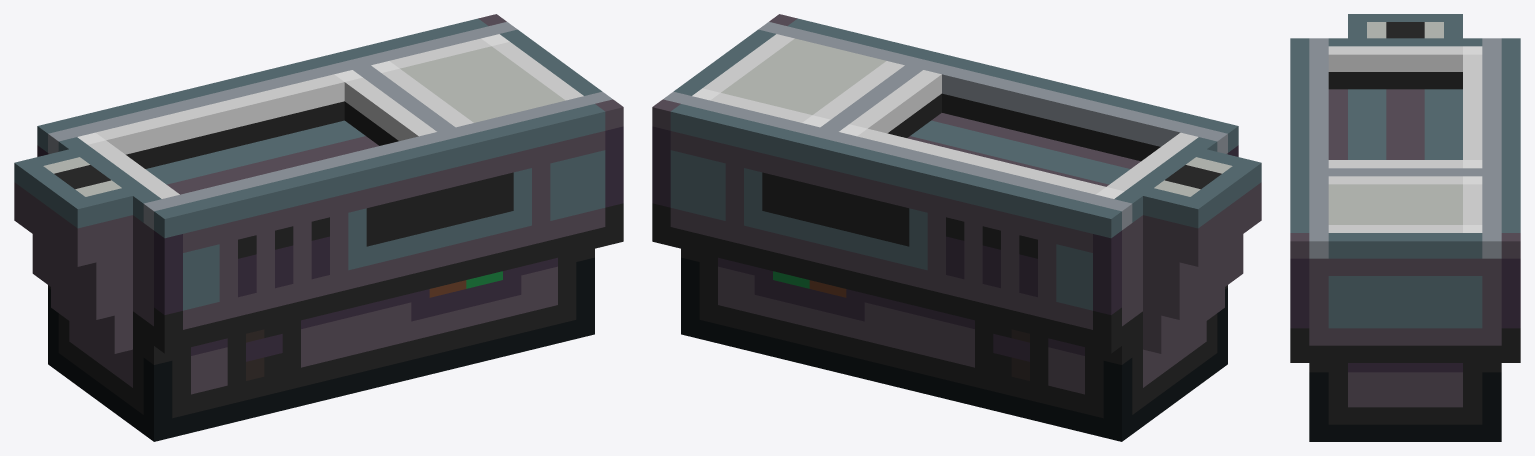
Rendered from machine.obj.
3 views of the same model, side by side, from view 1: azimuth 30°, elevation 25°; view 2: azimuth 150°, elevation 25°; view 3: azimuth 270°, elevation 25° (orthographic). The views are drawn at different scales.
Bounding box in the file's own units: 2.8 × 1.2 × 1.2.
1 material, 1 textured.
